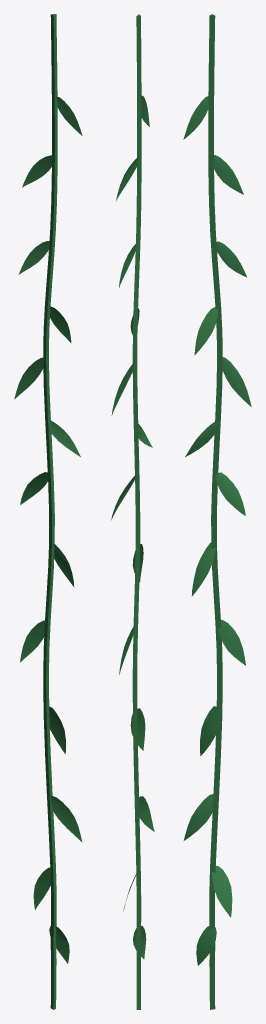
The model's file is vine_D_scanden.fbx.
The picture shows the model from 3 angles, left to right: view 1: azimuth 90°, elevation 25°; view 2: azimuth 150°, elevation 25°; view 3: azimuth 270°, elevation 25°; orthographic projection.
Visible parts, largest first — view 1: vine_D_scanden_root, vine_D_scanden_leaf_A5, vine_D_scanden_leaf_A6, vine_D_scanden_leaf_A9, vine_D_scanden_leaf_B3, vine_D_scanden_leaf_A4, vine_D_scanden_leaf_A12, vine_D_scanden_leaf_B6, vine_D_scanden_leaf_A11, vine_D_scanden_leaf_A8, vine_D_scanden_leaf_A10, vine_D_scanden_leaf_A13 (+2 smaller); view 2: vine_D_scanden_root, vine_D_scanden_leaf_B3, vine_D_scanden_leaf_A5, vine_D_scanden_leaf_A9, vine_D_scanden_leaf_A12, vine_D_scanden_leaf_A3, vine_D_scanden_leaf_A11, vine_D_scanden_leaf_B6, vine_D_scanden_leaf_A6, vine_D_scanden_leaf_A13, vine_D_scanden_leaf_B4, vine_D_scanden_leaf_A8; view 3: vine_D_scanden_root, vine_D_scanden_leaf_A4, vine_D_scanden_leaf_A6, vine_D_scanden_leaf_B3, vine_D_scanden_leaf_A5, vine_D_scanden_leaf_B6, vine_D_scanden_leaf_A9, vine_D_scanden_leaf_B4, vine_D_scanden_leaf_A10, vine_D_scanden_leaf_A12, vine_D_scanden_leaf_A3, vine_D_scanden_leaf_A11 (+2 smaller).
Part boxes in pixels (x1,y1,x2,y2): vine_D_scanden_root: (43, 14, 57, 1009); vine_D_scanden_leaf_A5: (48, 795, 82, 841); vine_D_scanden_leaf_A6: (20, 620, 45, 662); vine_D_scanden_leaf_A9: (14, 357, 44, 399); vine_D_scanden_leaf_B3: (48, 706, 65, 754); vine_D_scanden_leaf_A4: (33, 867, 51, 909); vine_D_scanden_leaf_A12: (22, 155, 53, 187); vine_D_scanden_leaf_B6: (20, 472, 47, 504); vine_D_scanden_leaf_A11: (18, 241, 49, 274); vine_D_scanden_leaf_A8: (45, 420, 80, 456); vine_D_scanden_leaf_A10: (50, 306, 71, 343); vine_D_scanden_leaf_A13: (56, 96, 82, 135); vine_D_scanden_root: (132, 14, 141, 1009); vine_D_scanden_leaf_B3: (130, 708, 145, 750); vine_D_scanden_leaf_A5: (138, 796, 154, 831); vine_D_scanden_leaf_A9: (111, 361, 134, 415); vine_D_scanden_leaf_A12: (116, 156, 139, 200); vine_D_scanden_leaf_A3: (133, 925, 146, 959); vine_D_scanden_leaf_A11: (119, 243, 136, 287); vine_D_scanden_leaf_B6: (111, 475, 135, 520); vine_D_scanden_leaf_A6: (119, 624, 135, 674); vine_D_scanden_leaf_A13: (141, 95, 149, 126); vine_D_scanden_leaf_B4: (132, 544, 143, 582); vine_D_scanden_leaf_A8: (138, 424, 152, 447); vine_D_scanden_root: (208, 14, 222, 1009); vine_D_scanden_leaf_A4: (212, 865, 232, 917); vine_D_scanden_leaf_A6: (217, 620, 245, 665); vine_D_scanden_leaf_B3: (200, 706, 220, 755); vine_D_scanden_leaf_A5: (183, 794, 213, 840); vine_D_scanden_leaf_B6: (215, 472, 245, 515); vine_D_scanden_leaf_A9: (221, 357, 251, 406); vine_D_scanden_leaf_B4: (191, 542, 215, 596); vine_D_scanden_leaf_A10: (194, 307, 217, 355); vine_D_scanden_leaf_A12: (212, 155, 243, 194); vine_D_scanden_leaf_A3: (196, 926, 216, 965); vine_D_scanden_leaf_A11: (216, 241, 247, 277).
Size of the model in its own units: 6.69 by 427 by 26.61.
